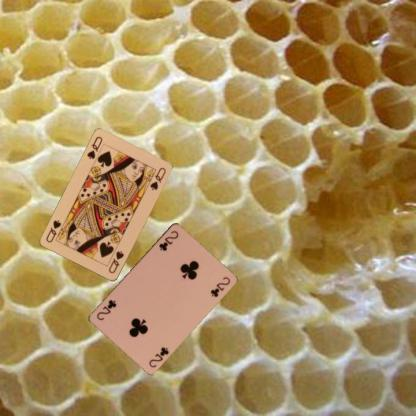2c: (145, 344, 170, 368), (156, 228, 180, 252)
Qs: (106, 248, 126, 275), (84, 134, 104, 161)
